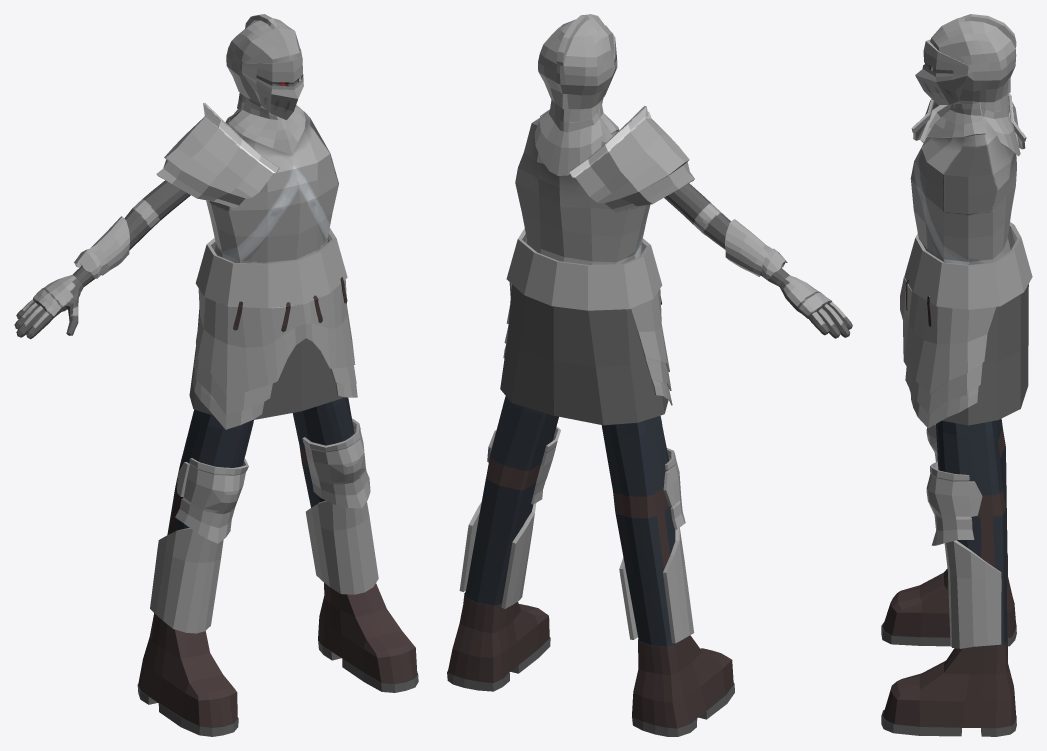
Rendered from knight_pack2.fbx.
3 views of the same model, side by side, from view 1: azimuth 30°, elevation 25°; view 2: azimuth 150°, elevation 25°; view 3: azimuth 270°, elevation 25° (orthographic). The views are drawn at different scales.
Parts seen in each view (by area): view 1: legs, thighs, ankle armour, chest plate, connected helm, kneepad, shoulderpad-2, hand, SKIRT, joint-gauntlet; view 2: legs, SKIRT, connected helm, chest plate, thighs, shoulderpad-2, ankle armour, hand, joint-gauntlet, kneepad; view 3: legs, thighs, chest plate, connected helm, SKIRT, ankle armour, kneepad, shoulderpad-2.
Part boxes in pixels (x1=…): legs: x1=137, y1=397, x2=418, y2=736; thighs: x1=192, y1=228, x2=357, y2=429; ankle armour: x1=150, y1=500, x2=378, y2=633; chest plate: x1=206, y1=111, x2=338, y2=263; connected helm: x1=225, y1=14, x2=305, y2=155; kneepad: x1=175, y1=418, x2=370, y2=543; shoulderpad-2: x1=156, y1=103, x2=279, y2=208; hand: x1=14, y1=180, x2=190, y2=339; SKIRT: x1=189, y1=304, x2=342, y2=419; joint-gauntlet: x1=74, y1=216, x2=129, y2=278; legs: x1=447, y1=396, x2=734, y2=736; SKIRT: x1=500, y1=284, x2=668, y2=425; connected helm: x1=534, y1=14, x2=619, y2=175; chest plate: x1=515, y1=113, x2=650, y2=264; thighs: x1=503, y1=228, x2=672, y2=405; shoulderpad-2: x1=569, y1=106, x2=694, y2=212; ankle armour: x1=459, y1=502, x2=694, y2=643; hand: x1=664, y1=183, x2=852, y2=338; joint-gauntlet: x1=725, y1=219, x2=787, y2=279; kneepad: x1=487, y1=426, x2=685, y2=529; legs: x1=881, y1=418, x2=1016, y2=736; thighs: x1=900, y1=222, x2=1032, y2=428; chest plate: x1=910, y1=116, x2=1016, y2=264; connected helm: x1=915, y1=14, x2=1020, y2=156; SKIRT: x1=909, y1=284, x2=1028, y2=425; ankle armour: x1=944, y1=540, x2=1001, y2=648; kneepad: x1=926, y1=424, x2=982, y2=545; shoulderpad-2: x1=911, y1=93, x2=1026, y2=149.
Size of the model in its own units: 125 by 211 by 43.55.
Materials: 1 (1 with a texture image).
